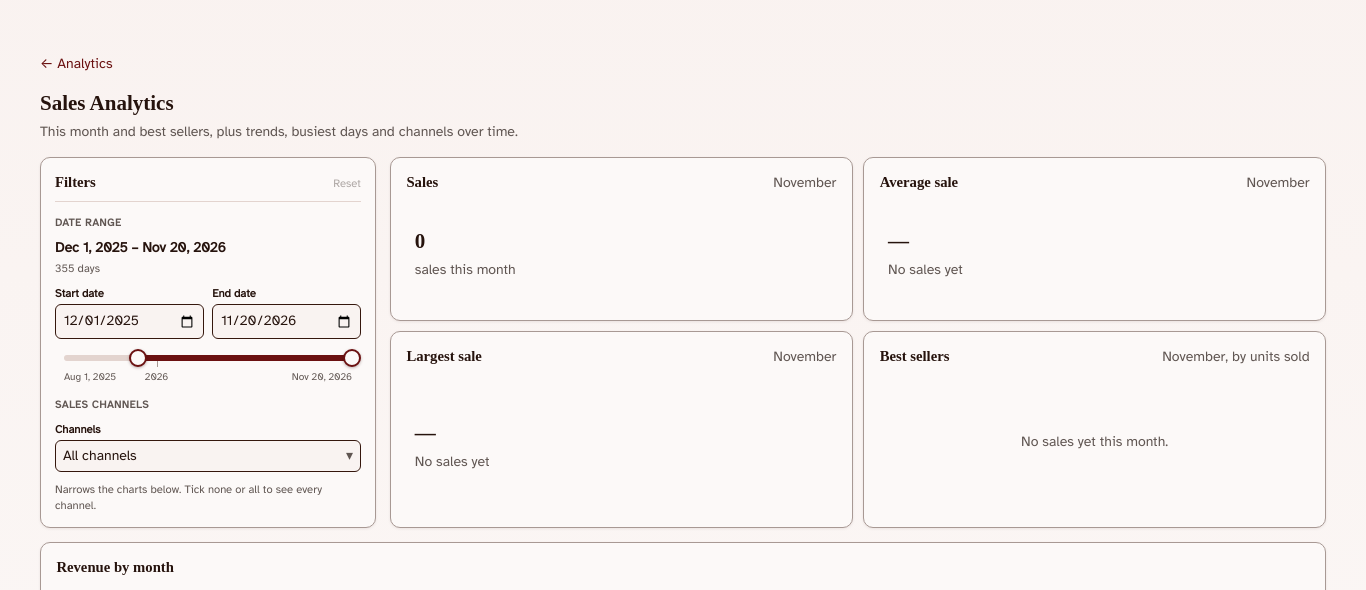
SalesAnalyticsPage charts › date filter › opens on the main page default period, and reloads for typed dates
Expected: the button "Reset" is disabled, top-left (333, 174), bottom-right (361, 191)
In the date field labelled "Start date": (129, 322) top-left (55, 304), bottom-right (204, 339), type "2026-10-01"
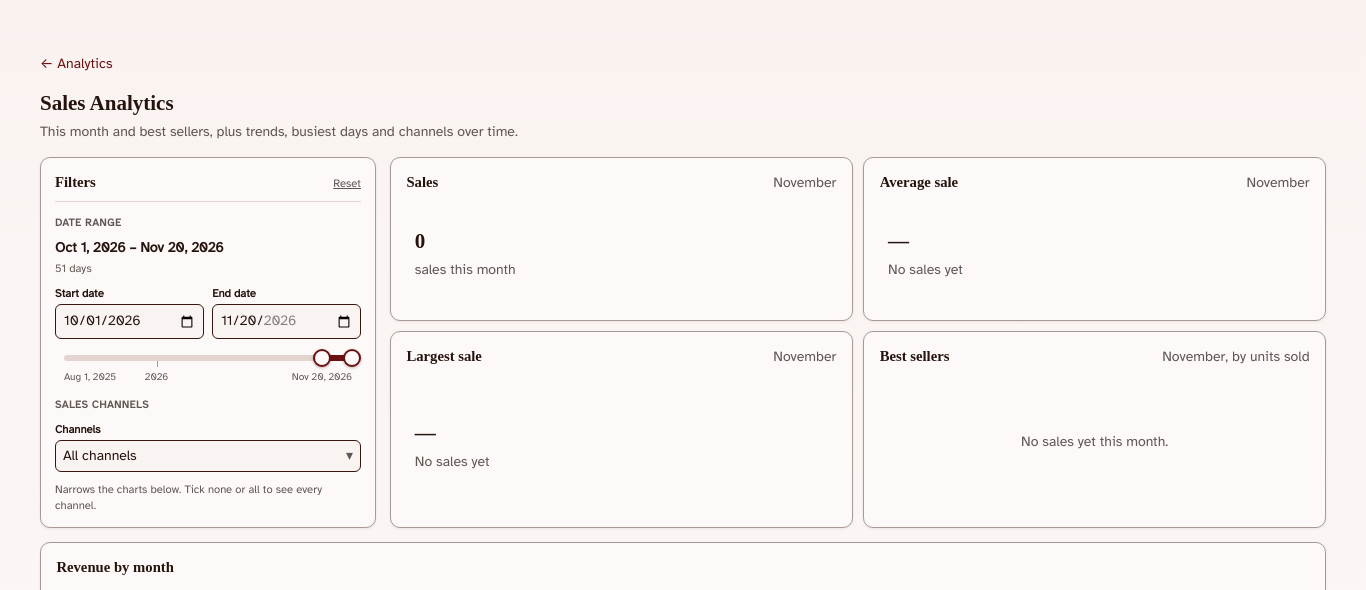
Now the button "Reset" is enabled, box top-left (333, 174), bottom-right (361, 191)
